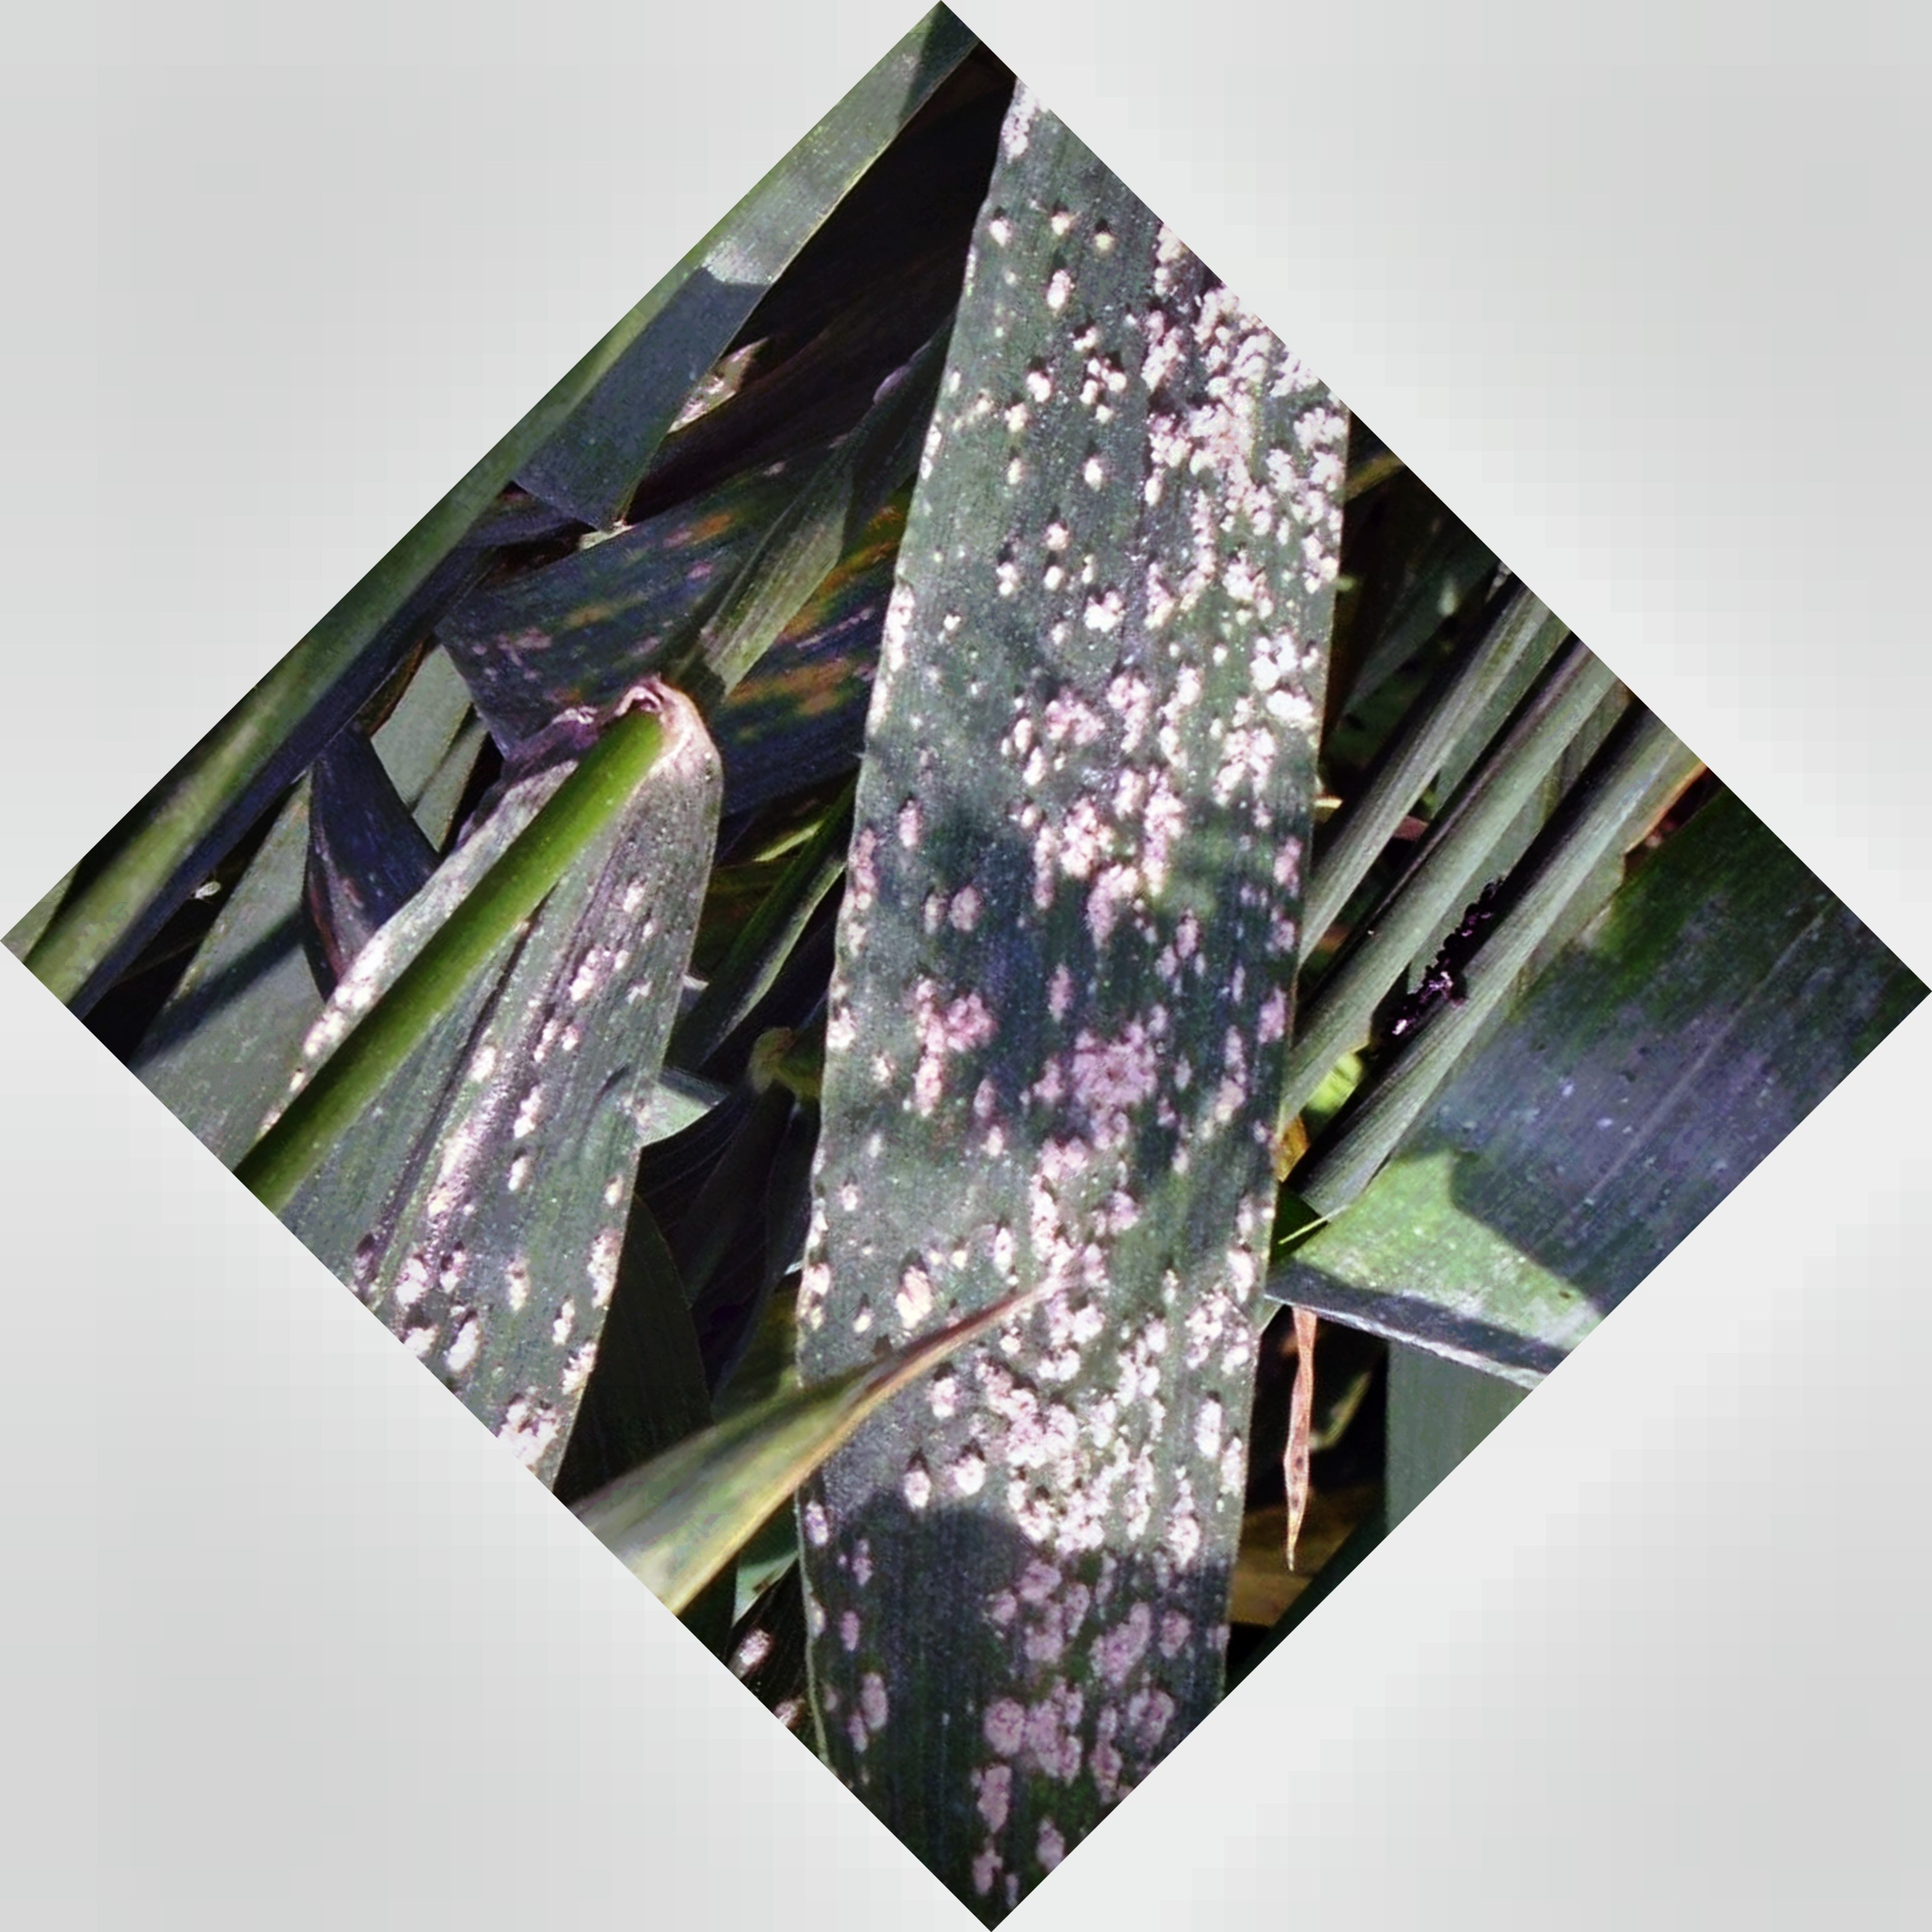Powdery Mildew: (846, 354, 1353, 1658)
